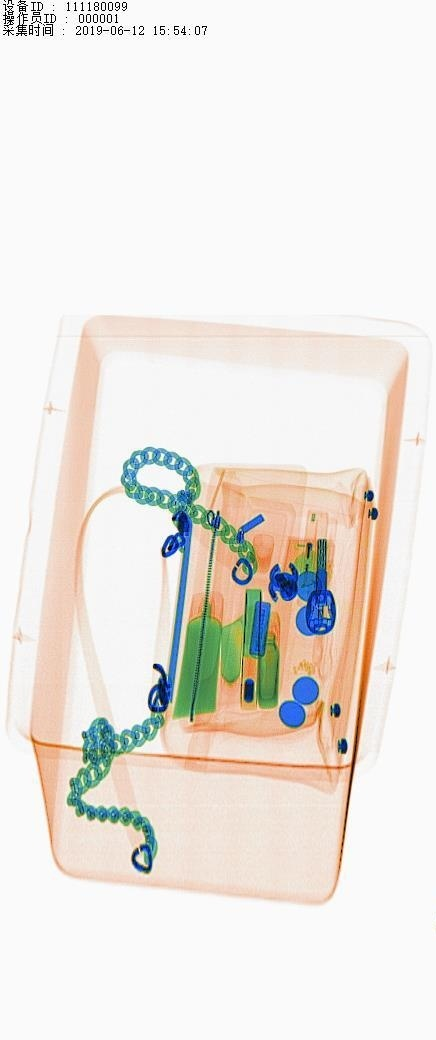NonmetallicFire: (292, 493, 337, 602)
